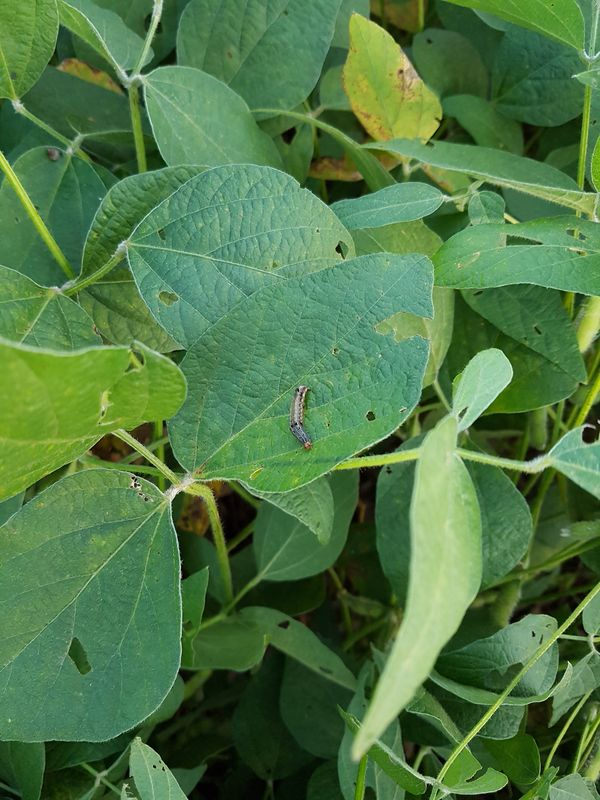Spodoptera_albula: (270, 378, 333, 457)
